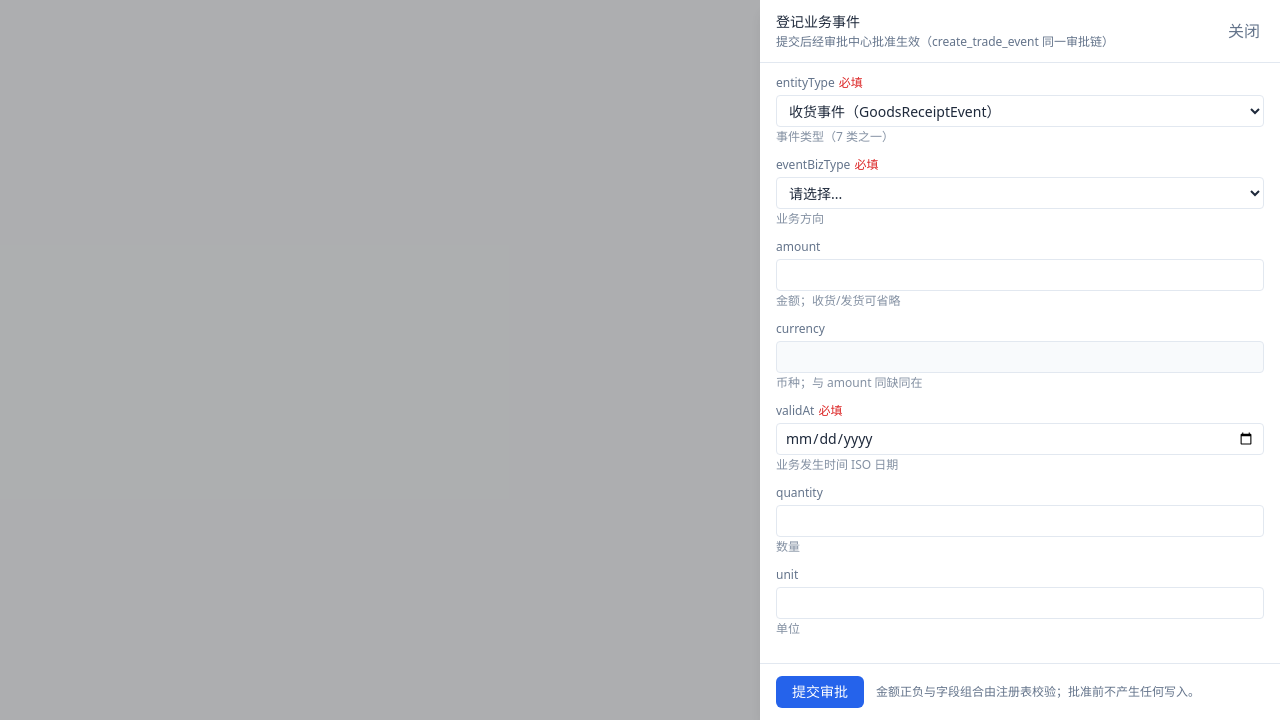
EventRegisterDrawer amount/currency 双向联动 › 方向一：amount 从有值到清空，currency 立即禁用并清空
Type "500" into the number field labelled "amount". click: [1020, 275]
box: [776, 259, 1264, 291]
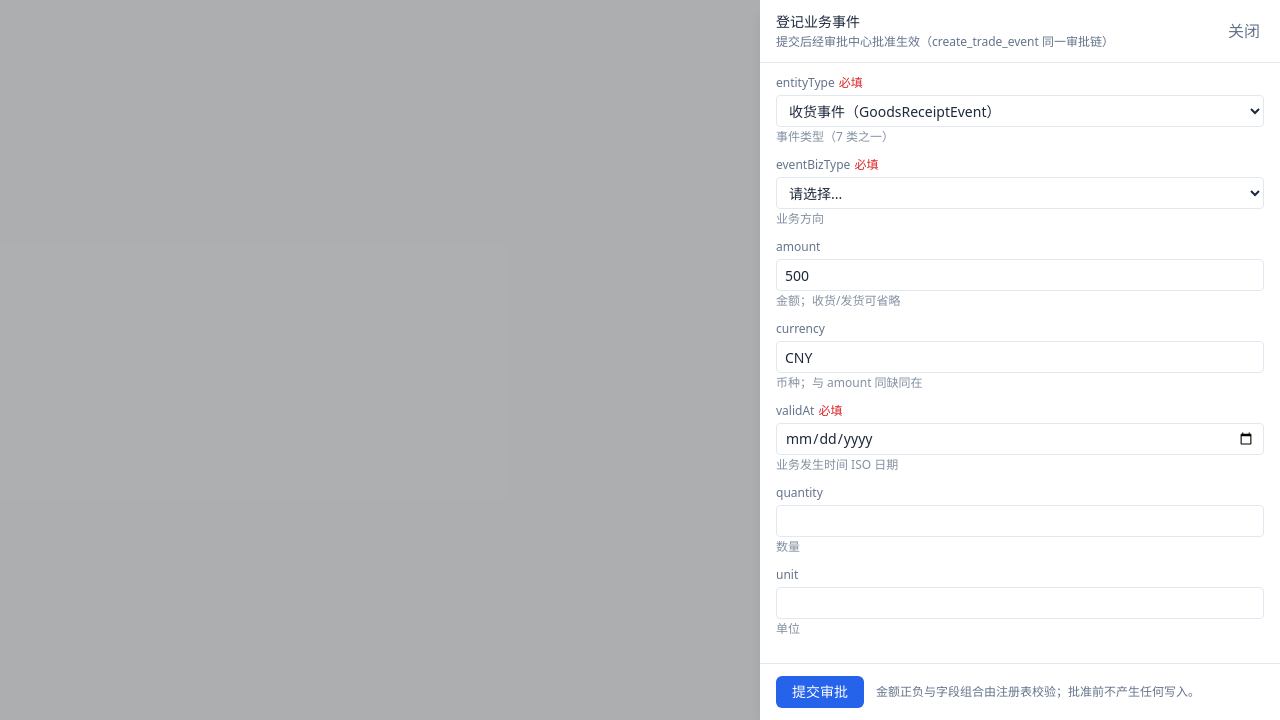
Check: the field labelled "currency" is enabled, box [776, 341, 1264, 373]
Check: the field labelled "currency" holds "CNY", box [776, 341, 1264, 373]
Clear the number field labelled "amount". click: [1020, 275]
box: [776, 259, 1264, 291]
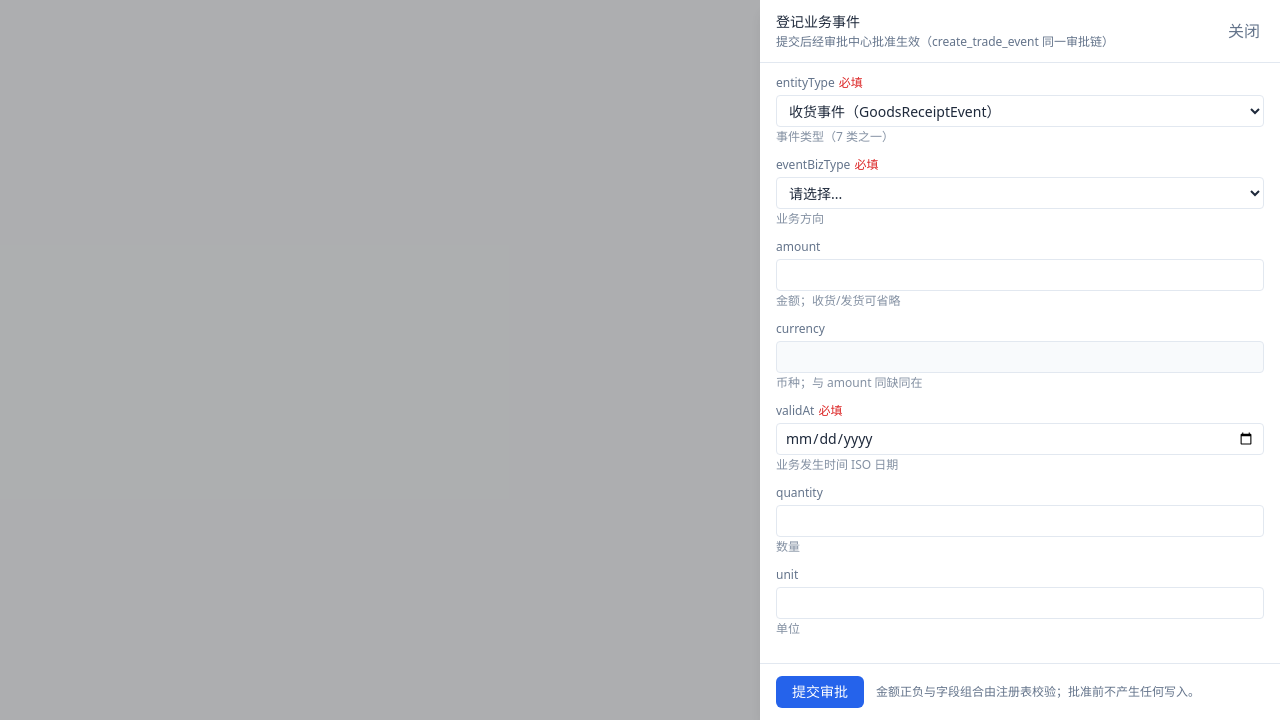
Check: the field labelled "currency" is disabled, box [776, 341, 1264, 373]
Check: the field labelled "currency" is empty, box [776, 341, 1264, 373]
